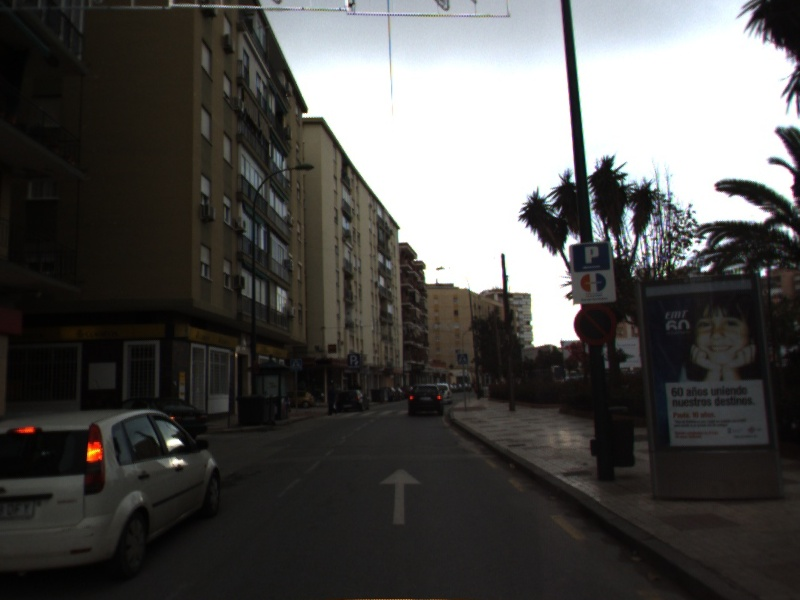STRAIGHT: (378, 466, 424, 526)
